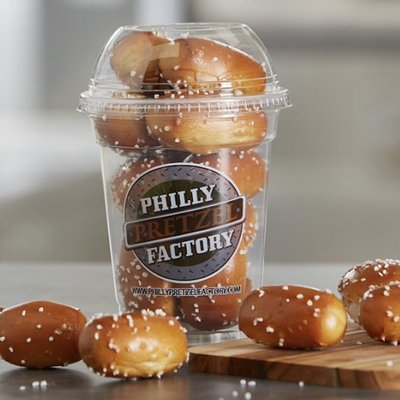salad: (79, 310, 188, 380), (239, 284, 348, 350), (0, 300, 88, 370), (337, 258, 400, 346), (359, 283, 400, 346)
sandwich: (76, 15, 293, 382)
